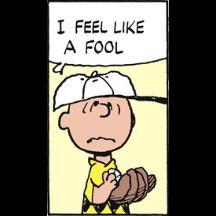charlie: (52, 68, 158, 216)
